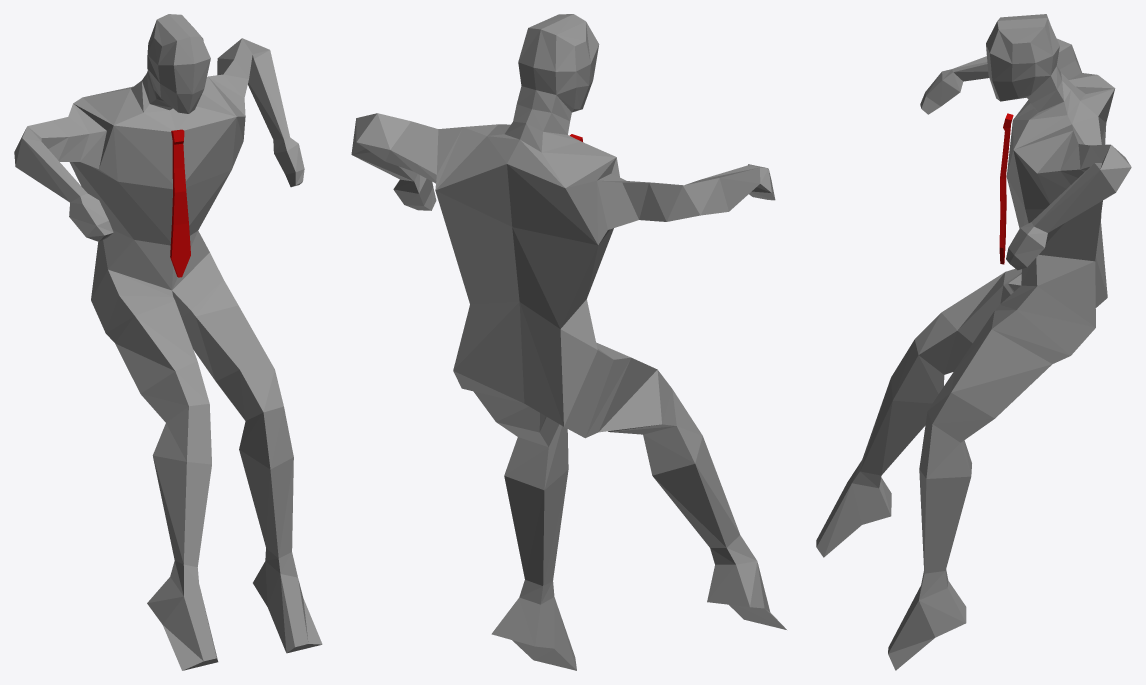
File: RunningMan.obj
3 views of the same model, side by side, from view 1: azimuth 30°, elevation 25°; view 2: azimuth 150°, elevation 25°; view 3: azimuth 270°, elevation 25° (orthographic). The views are drawn at different scales.
Parts seen in each view (by area): view 1: RunningManMesh_Cube, TieMesh_Cube.001; view 2: RunningManMesh_Cube; view 3: RunningManMesh_Cube, TieMesh_Cube.001.
Part boxes in pixels (x1,y1,x2,y2): RunningManMesh_Cube: [14, 14, 322, 670]; TieMesh_Cube.001: [170, 129, 190, 277]; RunningManMesh_Cube: [351, 14, 786, 670]; RunningManMesh_Cube: [816, 14, 1131, 670]; TieMesh_Cube.001: [999, 113, 1013, 264].
Bounding box in the file's own units: 8.49 × 17.16 × 8.01.
